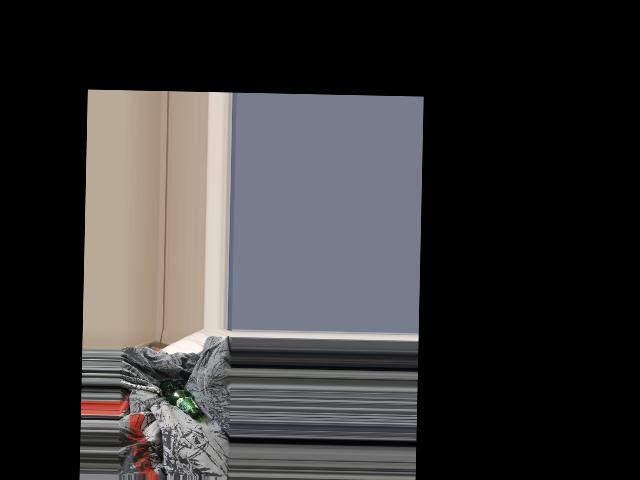beer: (159, 380, 203, 420)
